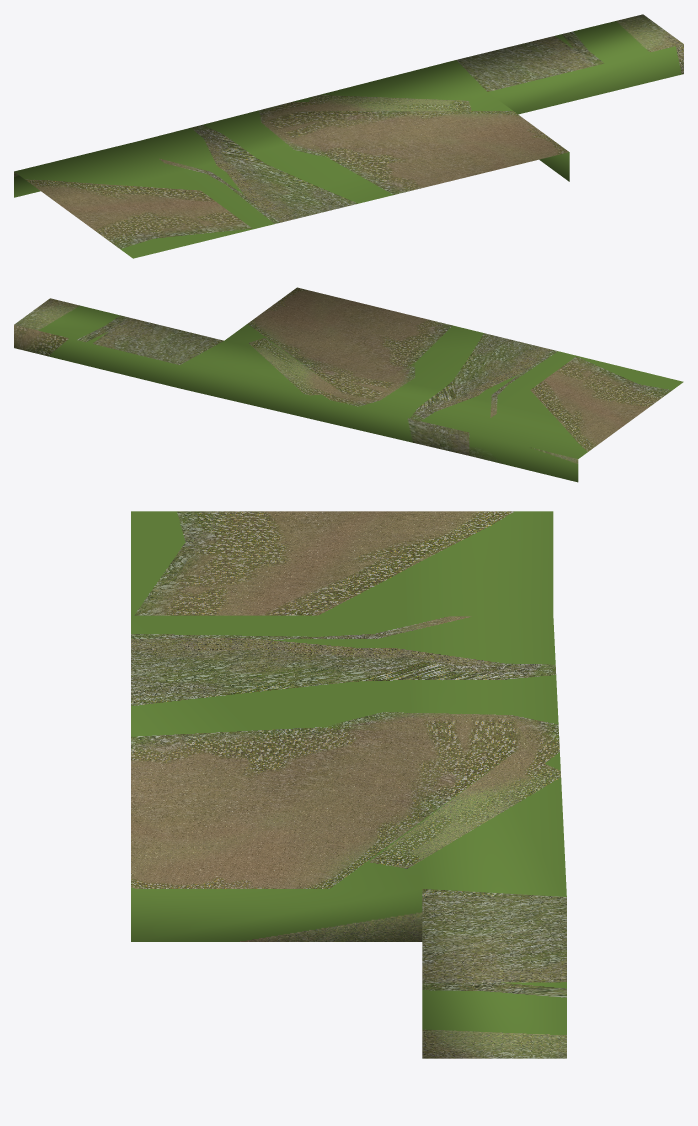
Rendered from Terreno2.fbx.
3 renders of one model, top to bottom at view 1: azimuth 30°, elevation 25°; view 2: azimuth 150°, elevation 25°; view 3: azimuth 270°, elevation 25°, orthographic. The views are drawn at different scales.
Parts seen in each view (by area): view 1: Terreno2; view 2: Terreno2; view 3: Terreno2.
Boxes of the visible parts, x1,y1,x2,y2 form: Terreno2: [14, 14, 683, 258]; Terreno2: [14, 287, 683, 482]; Terreno2: [131, 511, 566, 1058].
Bounding box in the file's own units: 26647 × 8962 × 1203.
